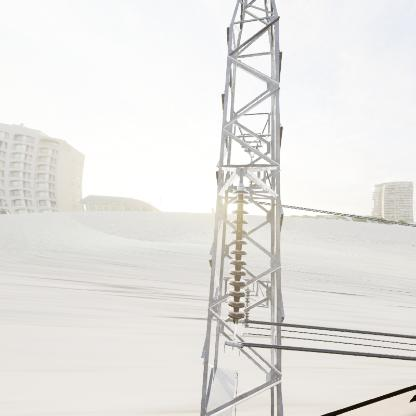insulator: (226, 187, 251, 326)
